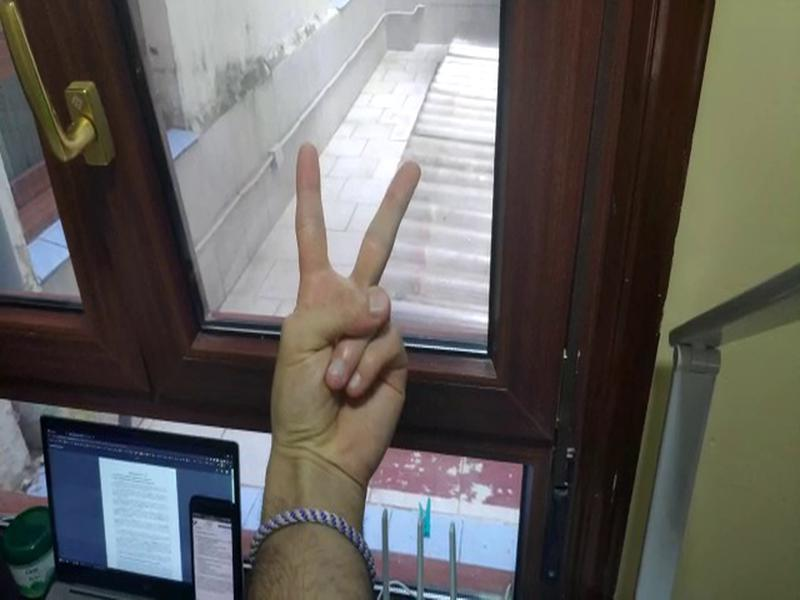Peace: (262, 126, 430, 472)
